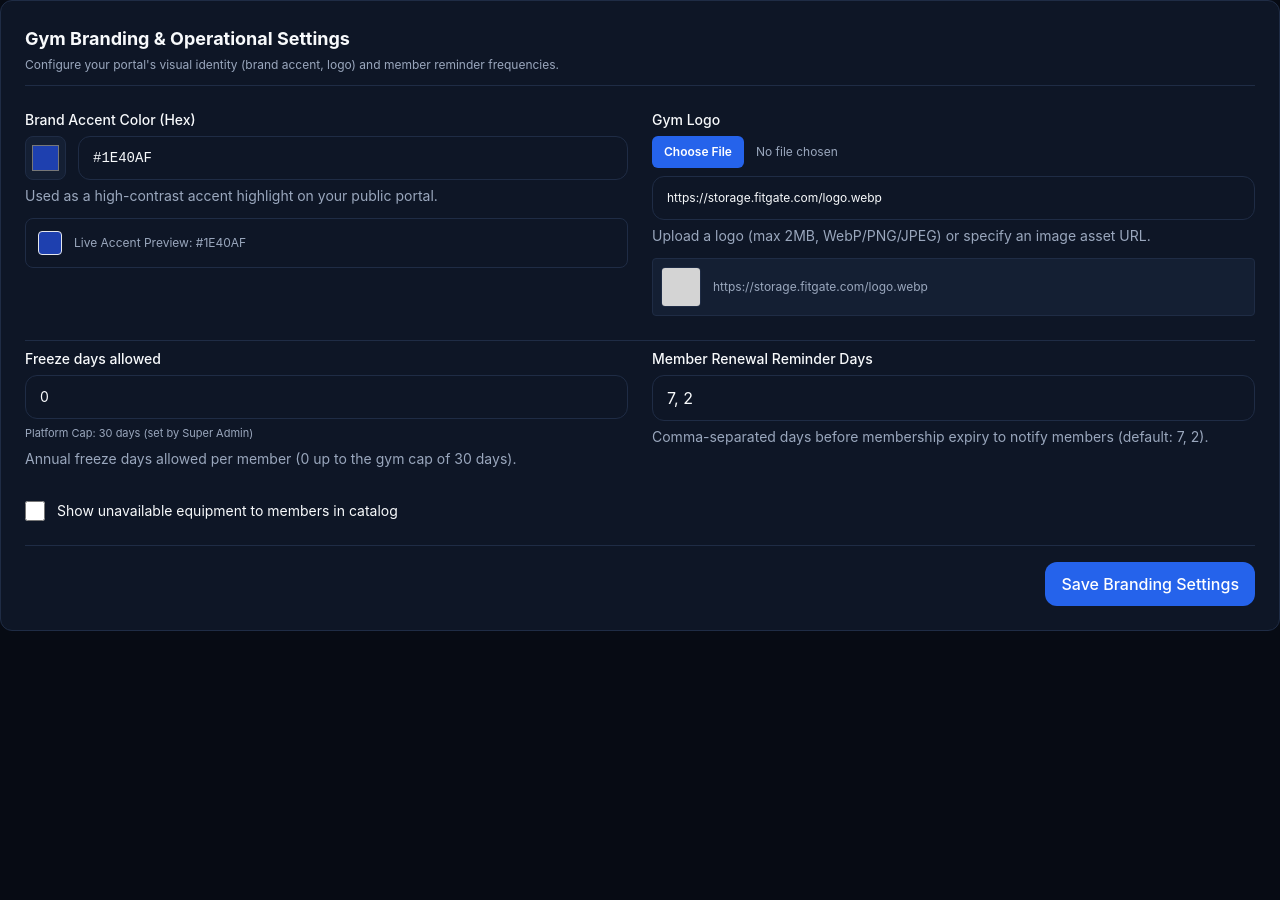
Sprint 4c: Gym branding, entry page, first-run checklist › GymBrandingSection › validates hex color and prevents submission if invalid
Replace the text in the field showing "#1E40AF" with "invalid-hex" at coordinates (353, 158), box [78, 136, 628, 180]
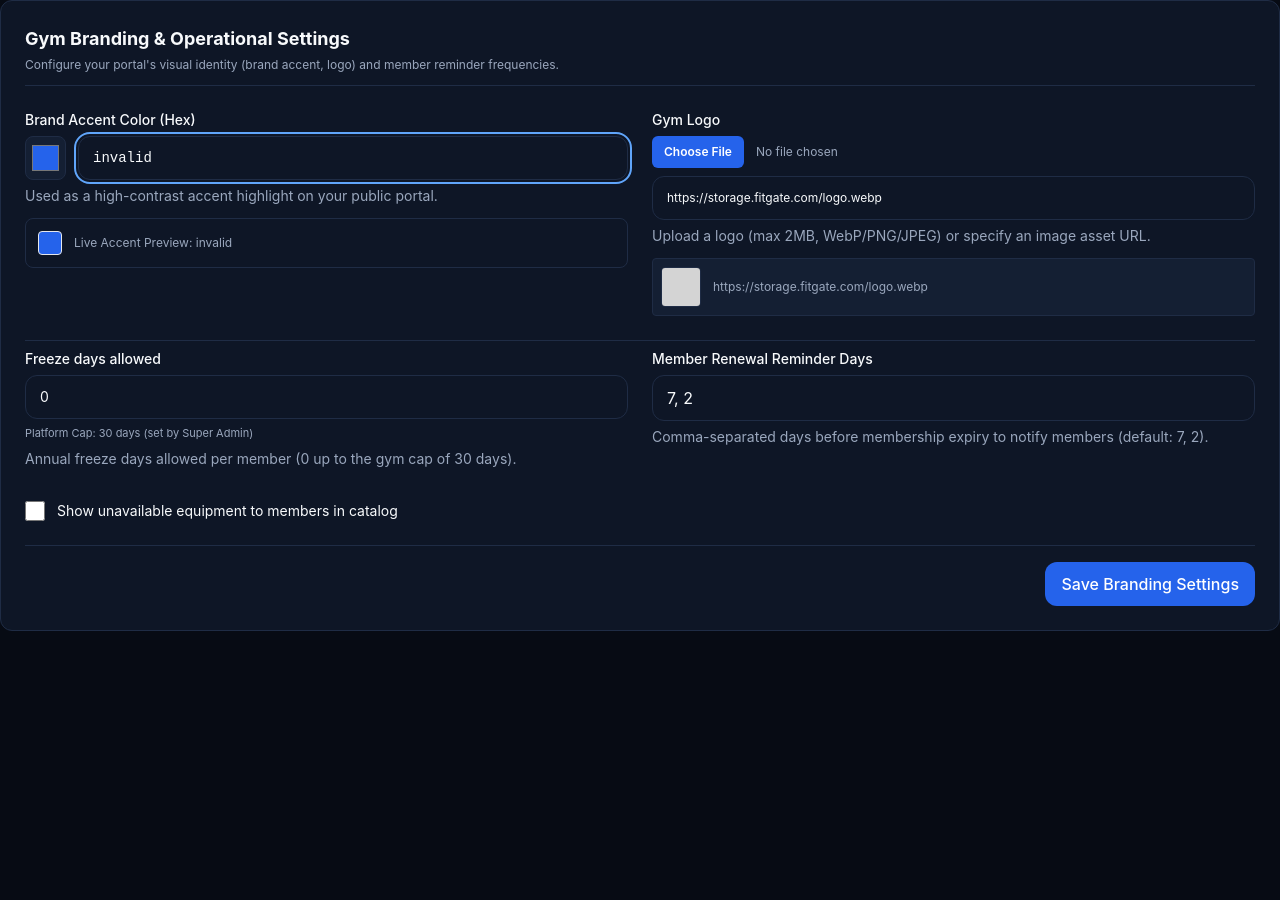
Click the button "Save Branding Settings" at coordinates (1150, 584), box [1046, 562, 1255, 606]
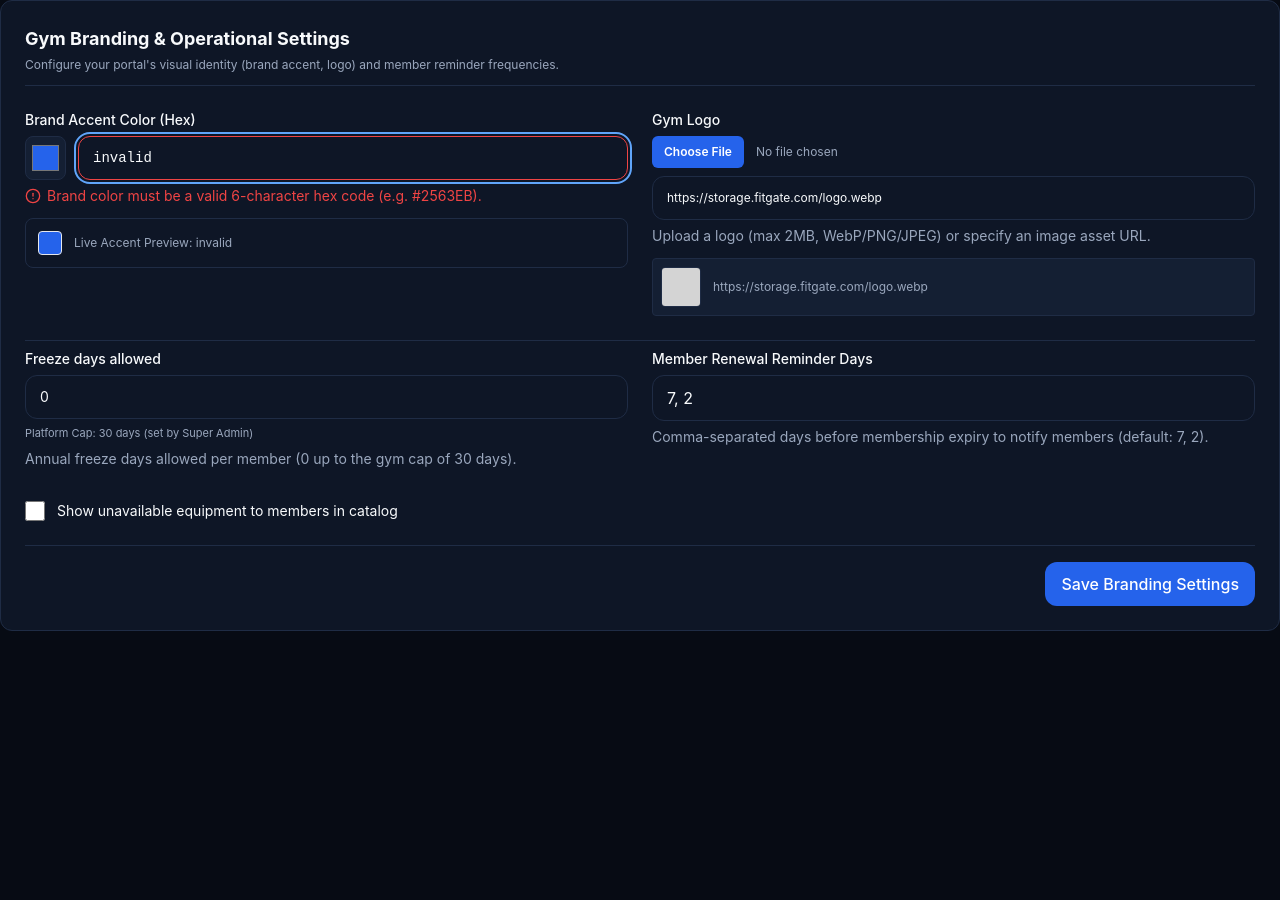
Expected: the text "Brand color must be a valid 6-character hex code (e.g. #2563EB)." is shown, [47, 186, 482, 206]
